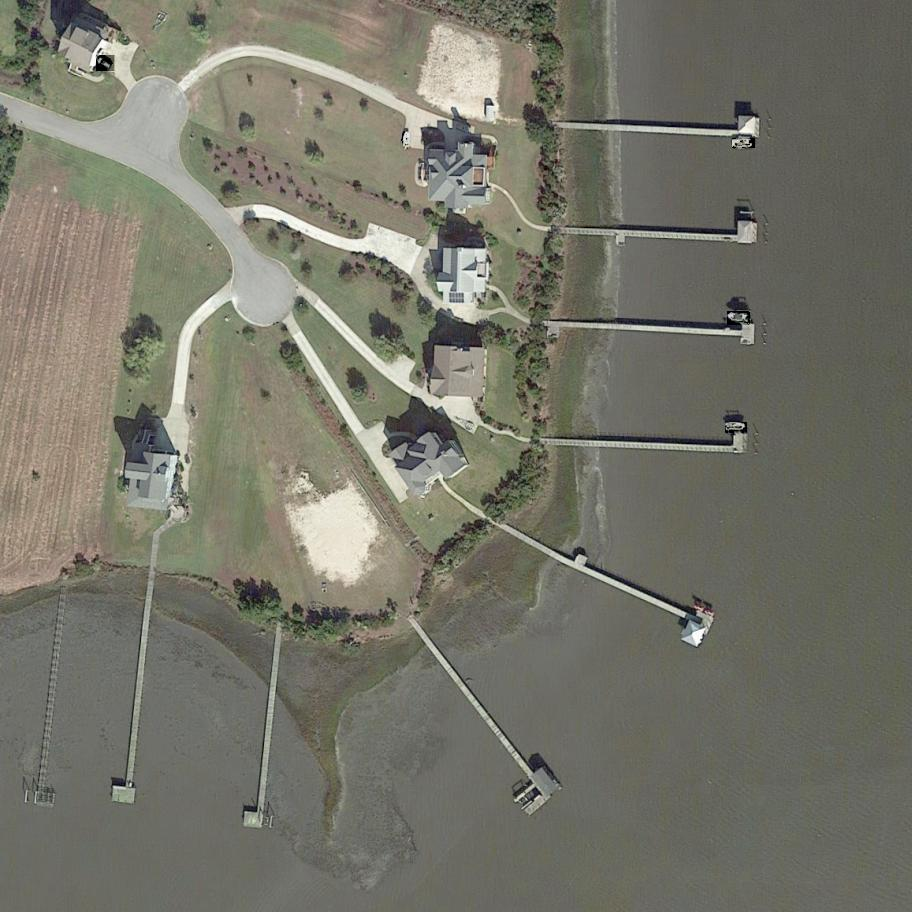ship: (727, 312, 750, 325), (733, 138, 754, 149), (401, 132, 413, 150), (725, 423, 747, 432)
small-vehicle: (97, 55, 115, 72)
